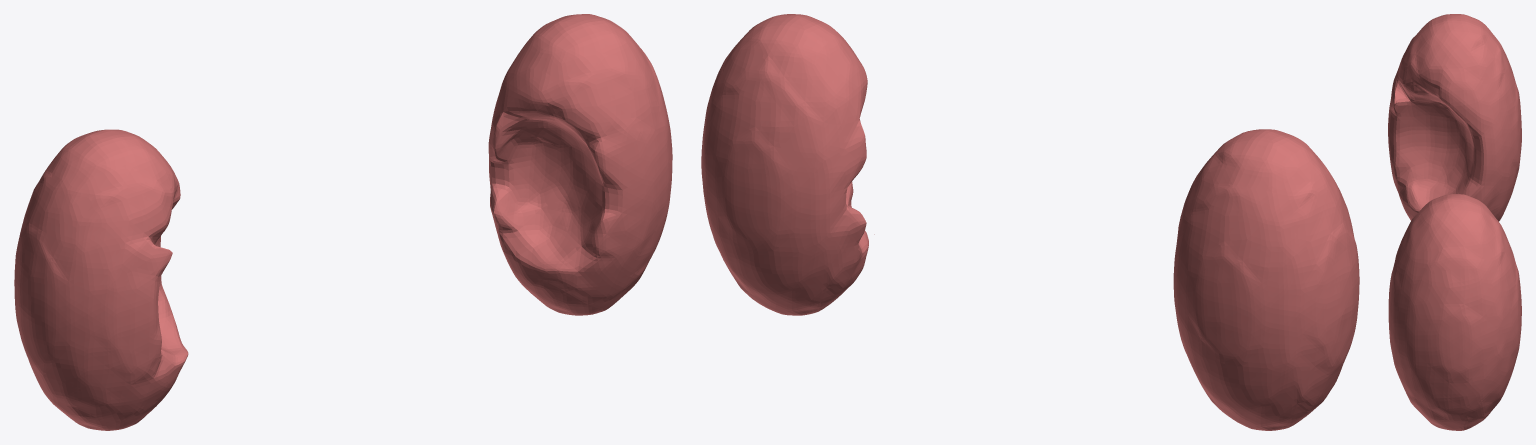
The model's file is organ-kidney.glb.
The picture shows the model from 3 angles, left to right: view 1: azimuth 30°, elevation 25°; view 2: azimuth 150°, elevation 25°; view 3: azimuth 270°, elevation 25°; orthographic projection. The views are drawn at different scales.
Visible parts, largest first — view 1: geometry_0; view 2: geometry_0; view 3: geometry_0.
Boxes of the visible parts, bbox=[...] form: geometry_0: bbox=[14, 14, 672, 430]; geometry_0: bbox=[701, 14, 1359, 430]; geometry_0: bbox=[1388, 14, 1521, 430].
Bounding box in the file's own units: 0.3906 × 0.1704 × 0.091.
